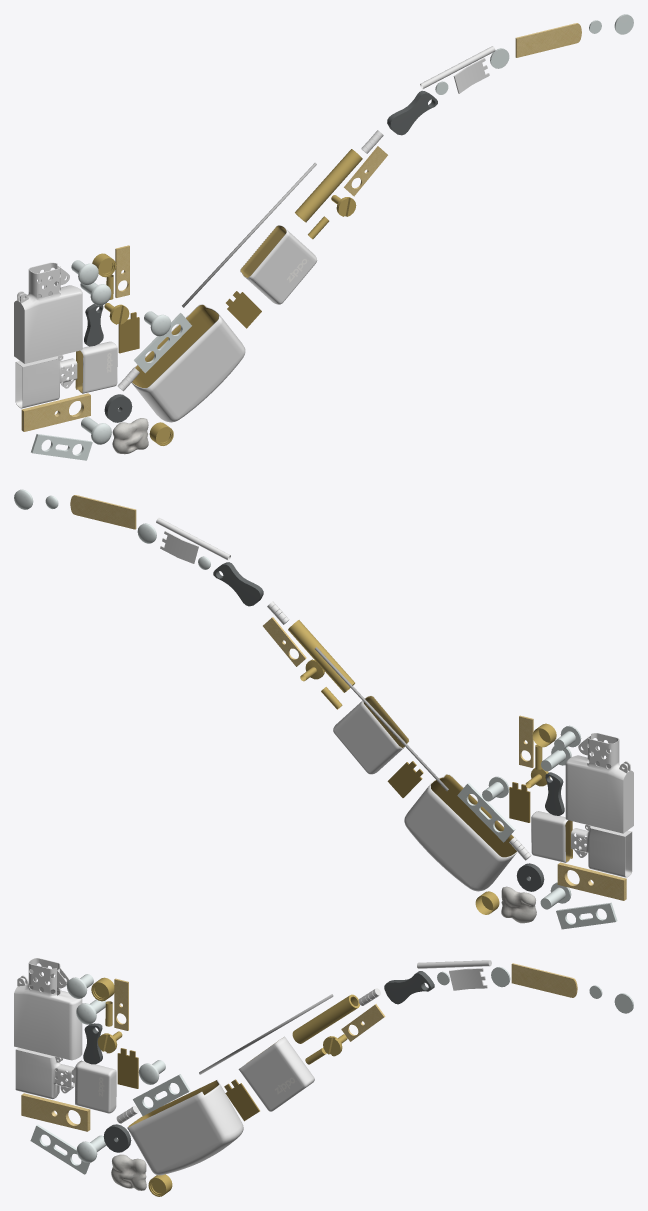
The picture shows the model from 3 angles, top to bottom: view 1: azimuth 30°, elevation 25°; view 2: azimuth 150°, elevation 25°; view 3: azimuth 330°, elevation 25°; orthographic projection.
Parts seen in each view (by area): view 1: S_ZP_A, S_ZP_C, S_ZP_B, S_ZP_C001a, S_ZP_B001a, S_ZP_V, S_ZP_O, S_ZP_F, S_ZP_N, S_ZP_H, S_ZP_M, S_ZP_M001a (+8 smaller); view 2: S_ZP_A, S_ZP_C, S_ZP_B, S_ZP_C001a, S_ZP_B001a, S_ZP_V, S_ZP_O, S_ZP_F, S_ZP_M001a, S_ZP_N, S_ZP_H, S_ZP_M (+8 smaller); view 3: S_ZP_A, S_ZP_C, S_ZP_B, S_ZP_C001a, S_ZP_B001a, S_ZP_V, S_ZP_O, S_ZP_F, S_ZP_N, S_ZP_M001a, S_ZP_H, S_ZP_M (+17 smaller).
Boxes of the visible parts, x1,y1,x2,y2 form: S_ZP_A: [129, 304, 245, 422]; S_ZP_C: [14, 262, 82, 363]; S_ZP_B: [240, 225, 317, 304]; S_ZP_C001a: [15, 355, 77, 408]; S_ZP_B001a: [75, 341, 117, 393]; S_ZP_V: [21, 393, 90, 431]; S_ZP_O: [515, 23, 581, 57]; S_ZP_F: [295, 149, 362, 222]; S_ZP_N: [112, 418, 148, 454]; S_ZP_H: [387, 90, 437, 135]; S_ZP_M: [31, 434, 92, 460]; S_ZP_M001a: [134, 313, 191, 373]; S_ZP_A: [404, 774, 519, 891]; S_ZP_C: [565, 733, 633, 833]; S_ZP_B: [333, 695, 409, 774]; S_ZP_C001a: [571, 824, 632, 877]; S_ZP_B001a: [531, 811, 572, 862]; S_ZP_V: [557, 862, 626, 900]; S_ZP_O: [70, 495, 136, 529]; S_ZP_F: [288, 620, 354, 692]; S_ZP_M001a: [457, 782, 515, 842]; S_ZP_N: [501, 886, 536, 923]; S_ZP_H: [213, 562, 263, 606]; S_ZP_M: [556, 902, 617, 929]; S_ZP_A: [127, 1080, 243, 1175]; S_ZP_C: [14, 958, 82, 1060]; S_ZP_B: [238, 1036, 314, 1111]; S_ZP_C001a: [15, 1047, 75, 1099]; S_ZP_B001a: [75, 1060, 116, 1113]; S_ZP_V: [21, 1093, 90, 1131]; S_ZP_O: [511, 963, 577, 997]; S_ZP_F: [292, 994, 359, 1043]; S_ZP_N: [111, 1154, 146, 1190]; S_ZP_M001a: [133, 1074, 190, 1115]; S_ZP_H: [384, 971, 434, 1004]; S_ZP_M: [30, 1124, 89, 1174].
Bounding box in the file's own units: 251 × 125 × 14.21.
Materials: 1 (1 with a texture image).
